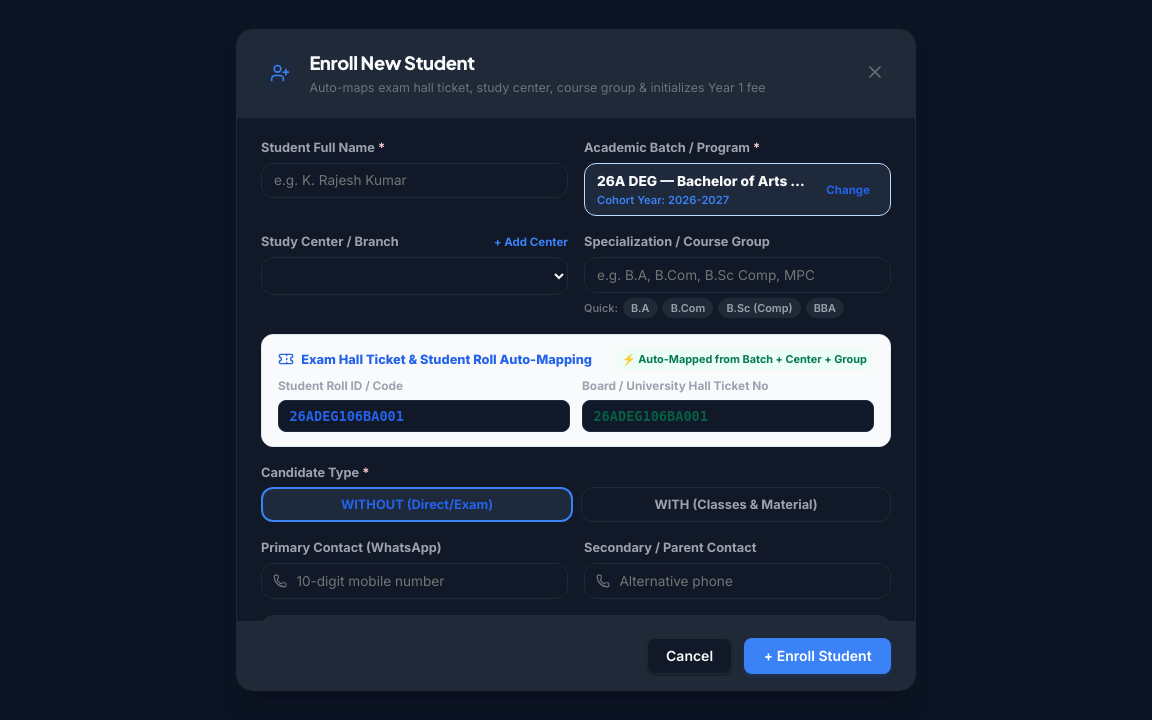
Test case: AddStudentModal Component › provides quick course suggestions tailored to the active batch program
Expected: the button "B.Com" is shown, [662, 298, 713, 318]
Click B.A suggestion
Click the button "B.A" at (640, 308), box [623, 298, 658, 318]
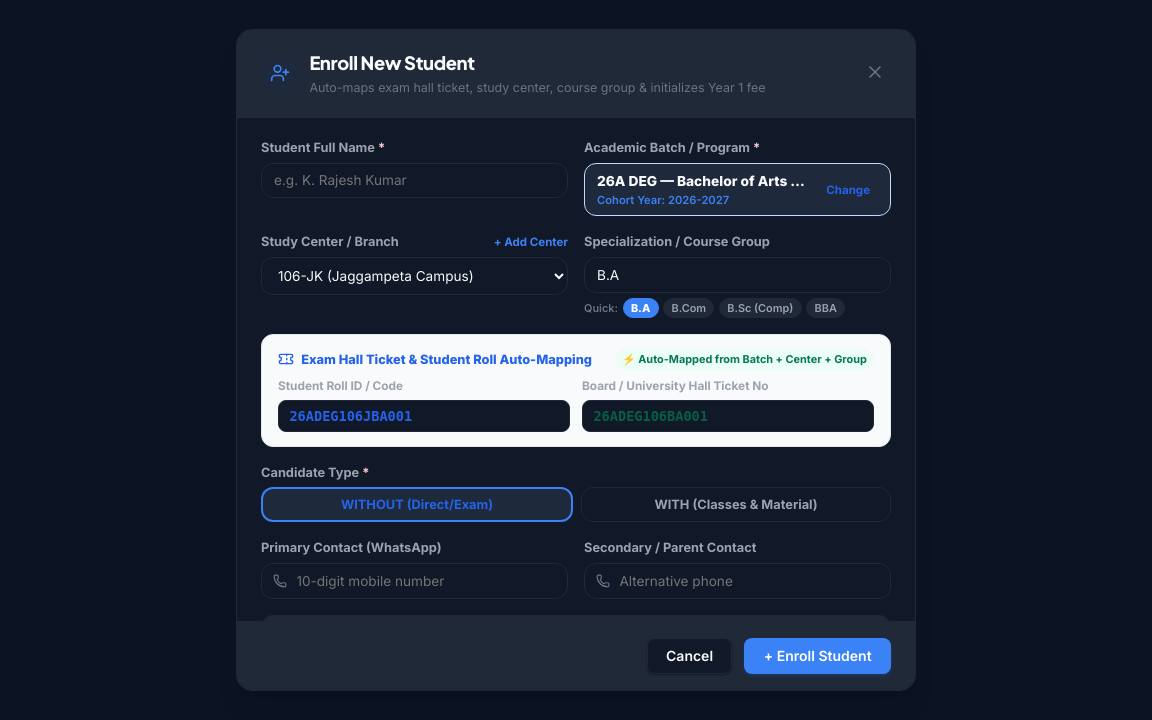
Expected: the field with placeholder "e.g. B.A, B.Com, B.Sc Comp, MPC" below "Specialization / Course Group" holds "B.A", [584, 257, 891, 293]
